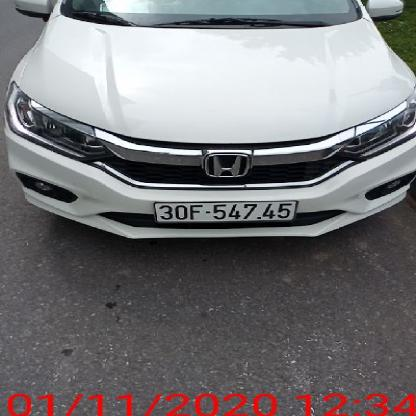biensoxe: (152, 194, 300, 227)
